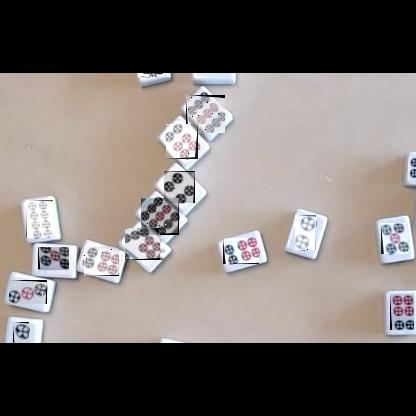2p: (295, 215, 316, 250), (13, 322, 29, 343)
3p: (9, 280, 47, 304)
4p: (164, 171, 195, 203)
5p: (381, 223, 408, 254), (38, 248, 69, 274)
6p: (166, 124, 198, 159), (84, 246, 119, 276), (223, 238, 259, 264), (390, 294, 414, 330)
7p: (126, 228, 165, 260)
8p: (26, 200, 53, 238), (137, 73, 163, 77)
9p: (186, 95, 225, 133), (141, 198, 179, 235)
